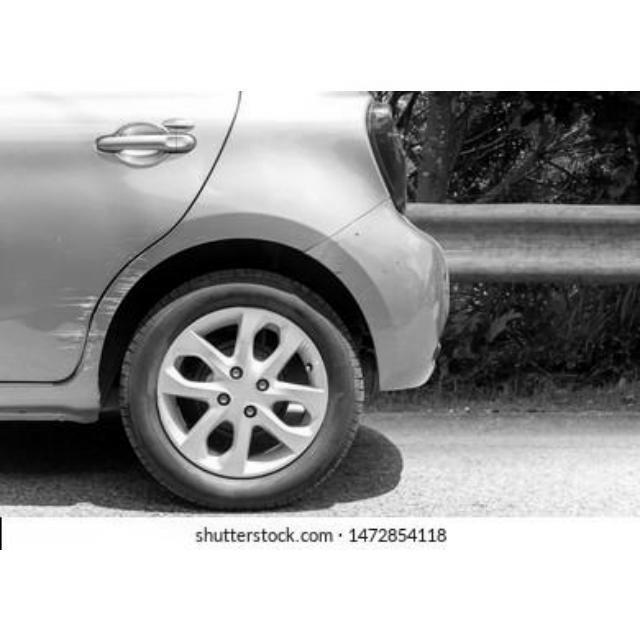quaterpanel-dent: (86, 232, 361, 392)
